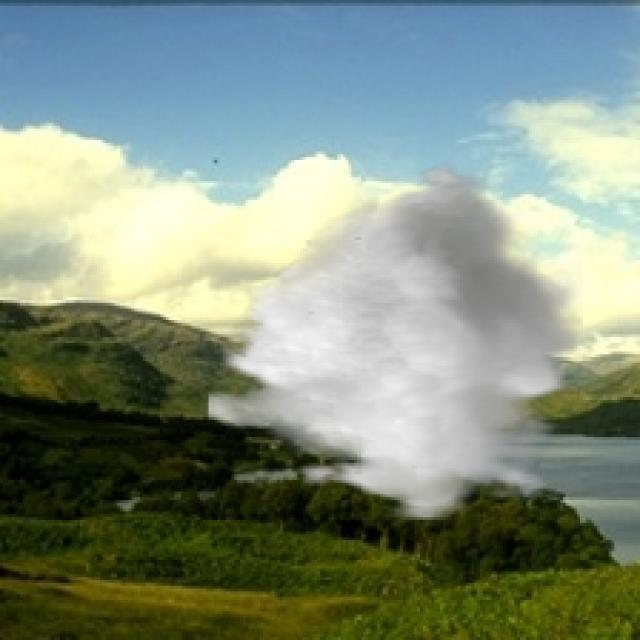Smoke: (206, 157, 583, 520)
